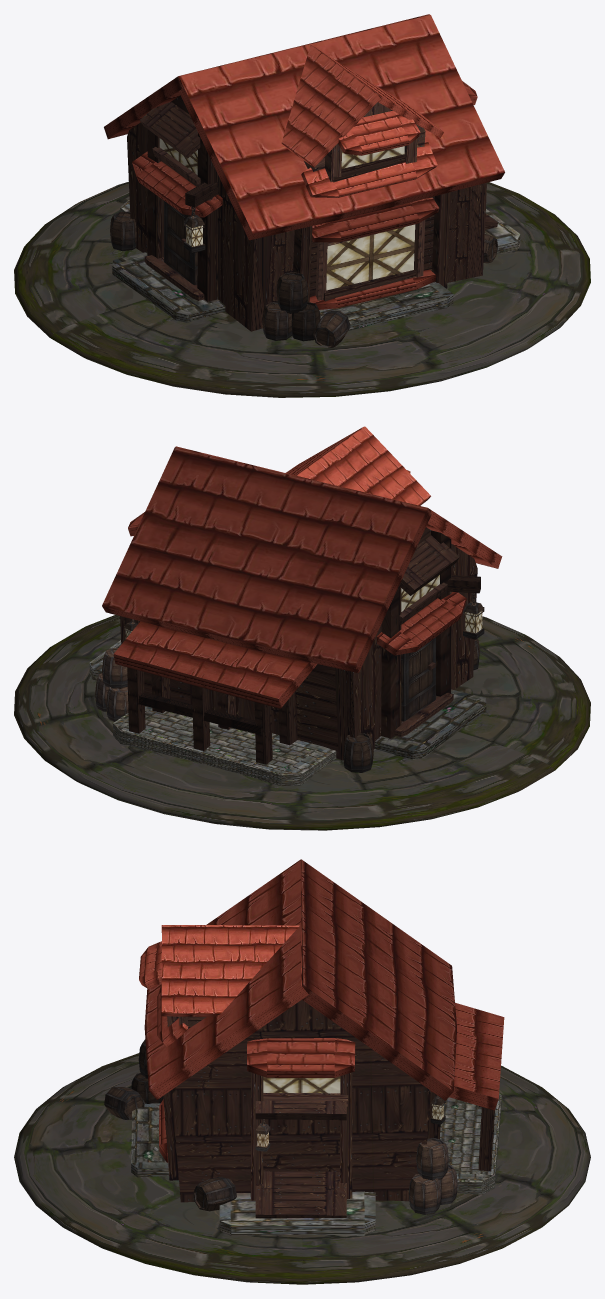
Rendered from game_asset_village_house.glb.
3 views of the same model, one above another, from view 1: azimuth 30°, elevation 25°; view 2: azimuth 150°, elevation 25°; view 3: azimuth 270°, elevation 25° (orthographic). The views are drawn at different scales.
Parts seen in each view (by area): view 1: Sphere_27, Cube.002_2, Cube.003_26, Cube.037_34, Cube.028_25, Cube.024_20, Cube.054_11, Cube.032_32, Cube.039_39, Cube.026_18, Cube.044_44, Cube.015_17 (+24 smaller); view 2: Sphere_27, Cube.001_3, Cube.029_91, Cube.049_56, Cube.003_26, Cube.037_34, Cube.005_5, Cube.054_11, Cube.015_17, Cube.014_16, Cube.088_13, Cube.072_99 (+13 smaller); view 3: Sphere_27, Cube.004_4, Cube.001_3, Cube.002_2, Cube.038_33, Cube.029_91, Cube.018_63, Cube.057_65, Cube.050_61, Cube.049_56, Cube.032_32, Cube.017_62 (+13 smaller).
Boxes of the visible parts, <box> form: Sphere_27: <box>14,181,590,397</box>; Cube.002_2: <box>178,15,504,240</box>; Cube.003_26: <box>127,95,272,331</box>; Cube.037_34: <box>281,45,380,167</box>; Cube.028_25: <box>269,187,471,302</box>; Cube.024_20: <box>326,224,415,290</box>; Cube.054_11: <box>112,252,225,322</box>; Cube.032_32: <box>319,281,453,331</box>; Cube.039_39: <box>301,142,437,197</box>; Cube.026_18: <box>312,197,439,242</box>; Cube.044_44: <box>334,111,420,155</box>; Cube.015_17: <box>132,151,222,217</box>; Sphere_27: <box>14,615,590,830</box>; Cube.001_3: <box>102,447,431,673</box>; Cube.029_91: <box>113,621,317,708</box>; Cube.049_56: <box>113,706,336,786</box>; Cube.003_26: <box>335,527,477,760</box>; Cube.037_34: <box>297,426,430,505</box>; Cube.005_5: <box>139,621,338,758</box>; Cube.054_11: <box>374,689,486,759</box>; Cube.015_17: <box>376,592,466,655</box>; Cube.014_16: <box>381,586,401,738</box>; Cube.088_13: <box>401,637,435,721</box>; Cube.072_99: <box>399,535,459,595</box>; Sphere_27: <box>14,1053,590,1284</box>; Cube.004_4: <box>172,1000,430,1202</box>; Cube.001_3: <box>301,859,456,1100</box>; Cube.002_2: <box>144,859,308,1099</box>; Cube.038_33: <box>161,925,299,1016</box>; Cube.029_91: <box>430,1002,504,1110</box>; Cube.018_63: <box>219,1191,375,1235</box>; Cube.057_65: <box>255,1171,346,1218</box>; Cube.050_61: <box>247,1038,355,1077</box>; Cube.049_56: <box>440,1093,501,1194</box>; Cube.032_32: <box>131,1103,168,1177</box>; Cube.017_62: <box>255,1100,346,1120</box>.
Size of what is drawn, in the model's own units: 232 by 110 by 225.
97 materials, 97 textured.
